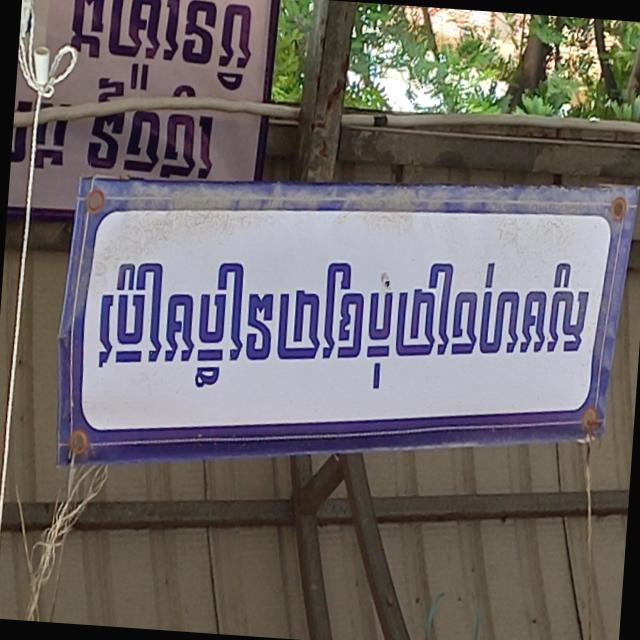Yolov11kh: (82, 251, 595, 397), (60, 0, 261, 95), (80, 77, 218, 209)
